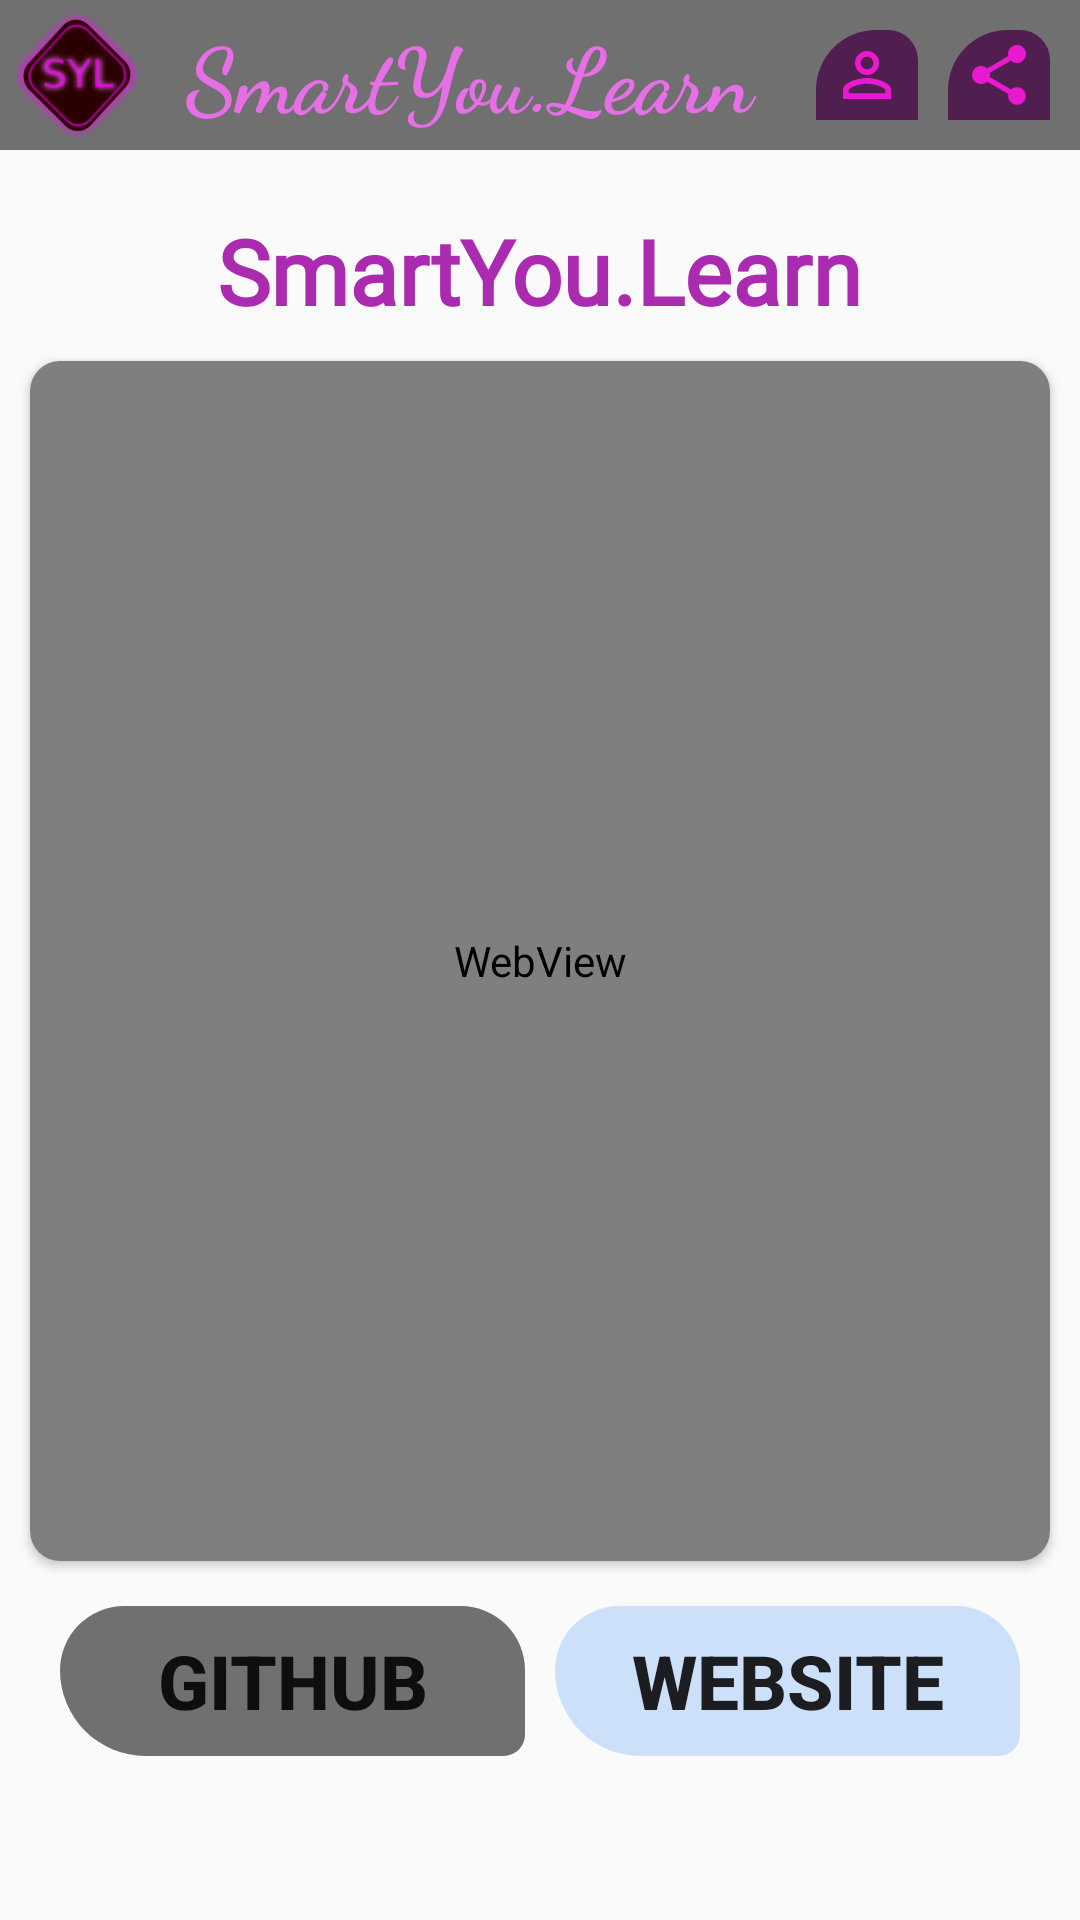

Locate icon controls on the screen. Image size 1080x1920, boxes as bbox(x1, y1, x2, y2).
person: bbox(816, 30, 918, 120)
share: bbox(948, 30, 1050, 120)
